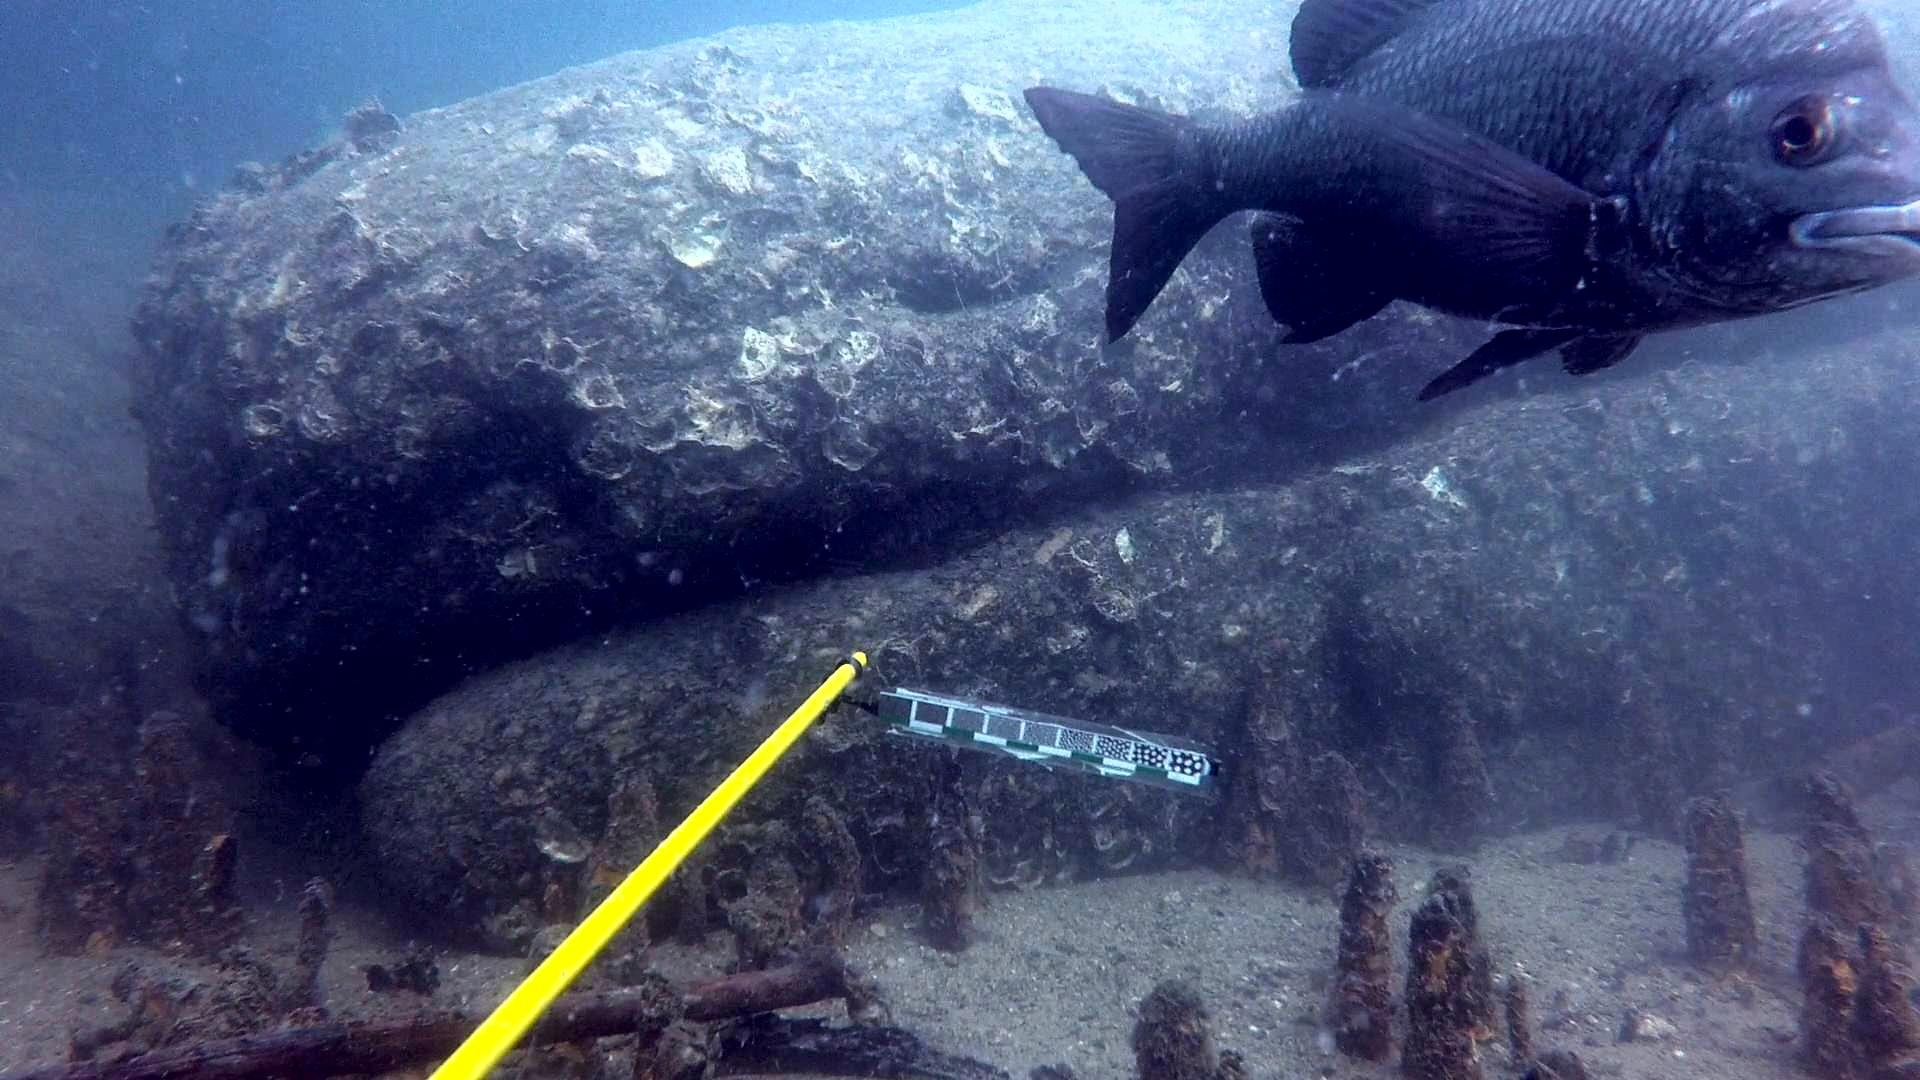acanthopagrus palmaris: (1018, 0, 1920, 411)
